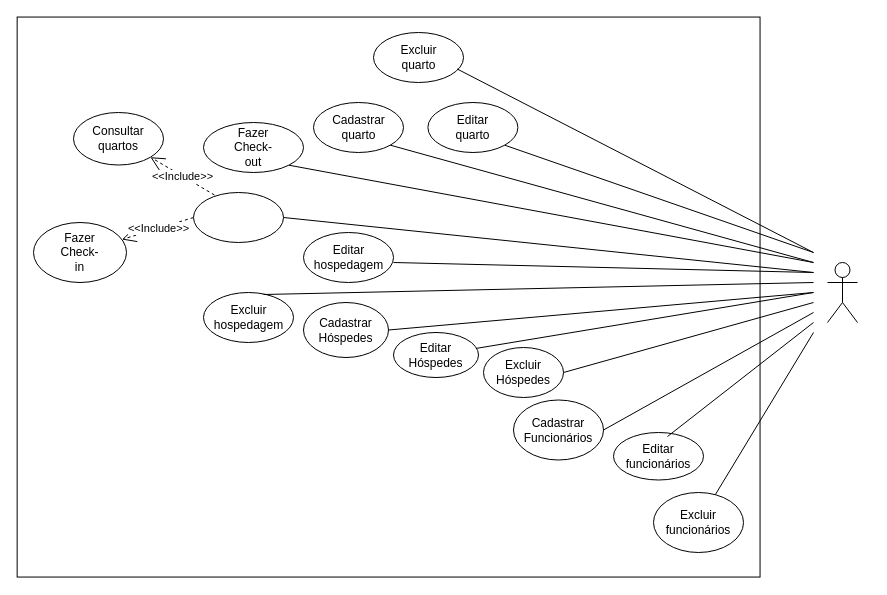
Image size: 887x595. Some labels were removed from this diagram. Here are the shapes that lost their labels. From the top down, the centre of each, then its label:
At point (238, 217): "Cadastrar hospedagem".
At point (842, 292): "Recepção".
